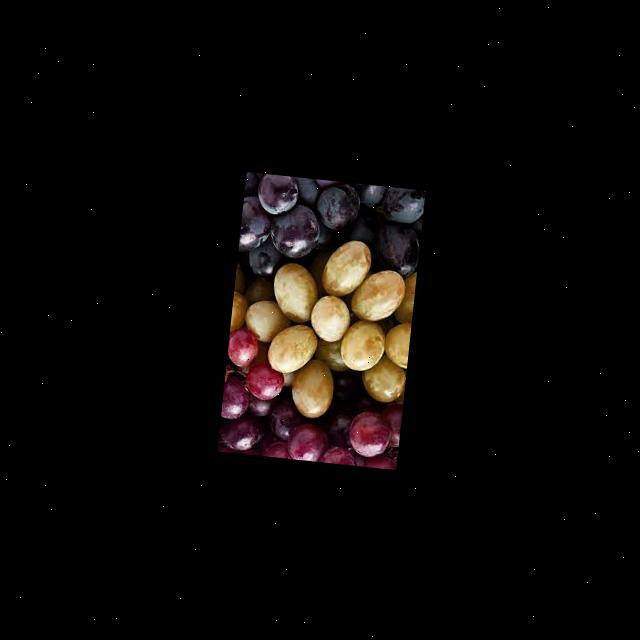grape: (216, 172, 423, 469)
